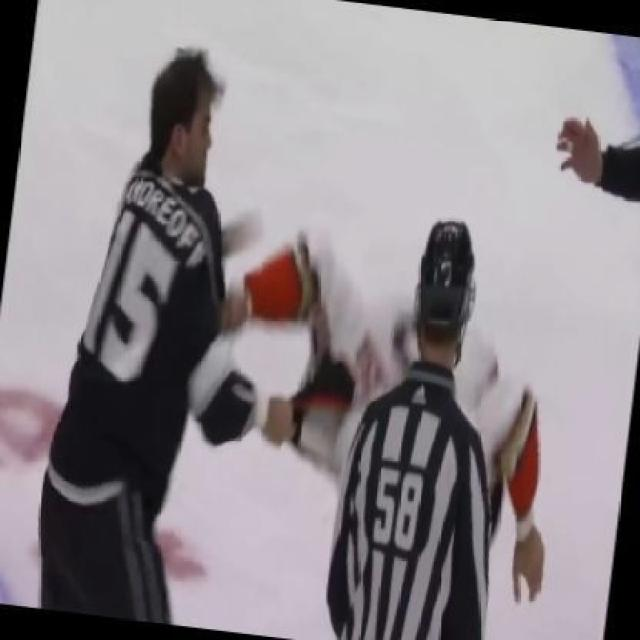fight: (37, 50, 544, 640)
non-fight: (329, 213, 486, 640)
